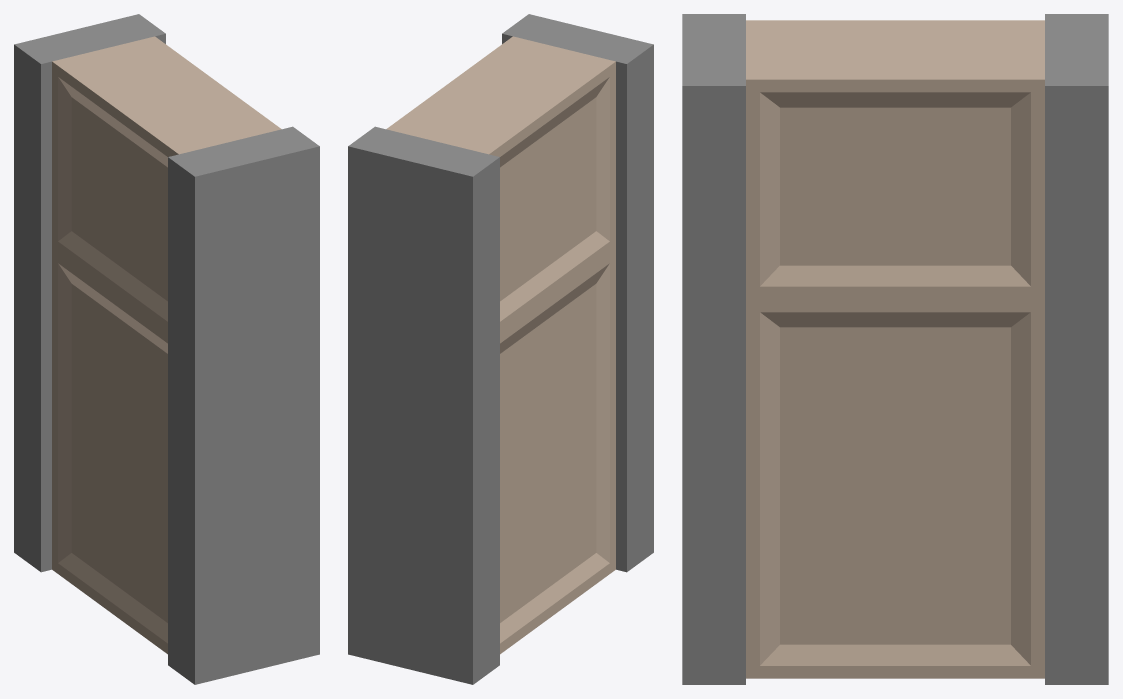
The model's file is Door.FBX.
3 renders of one model, left to right at view 1: azimuth 30°, elevation 25°; view 2: azimuth 150°, elevation 25°; view 3: azimuth 270°, elevation 25°, orthographic. The views are drawn at different scales.
Visible parts, largest first — view 1: Door; view 2: Door; view 3: Door.
Part boxes in pixels (x1=…): Door: x1=14, y1=14, x2=319, y2=684; Door: x1=348, y1=14, x2=653, y2=684; Door: x1=682, y1=14, x2=1108, y2=684.
Bounding box in the file's own units: 8.51 × 33.07 × 21.33.
